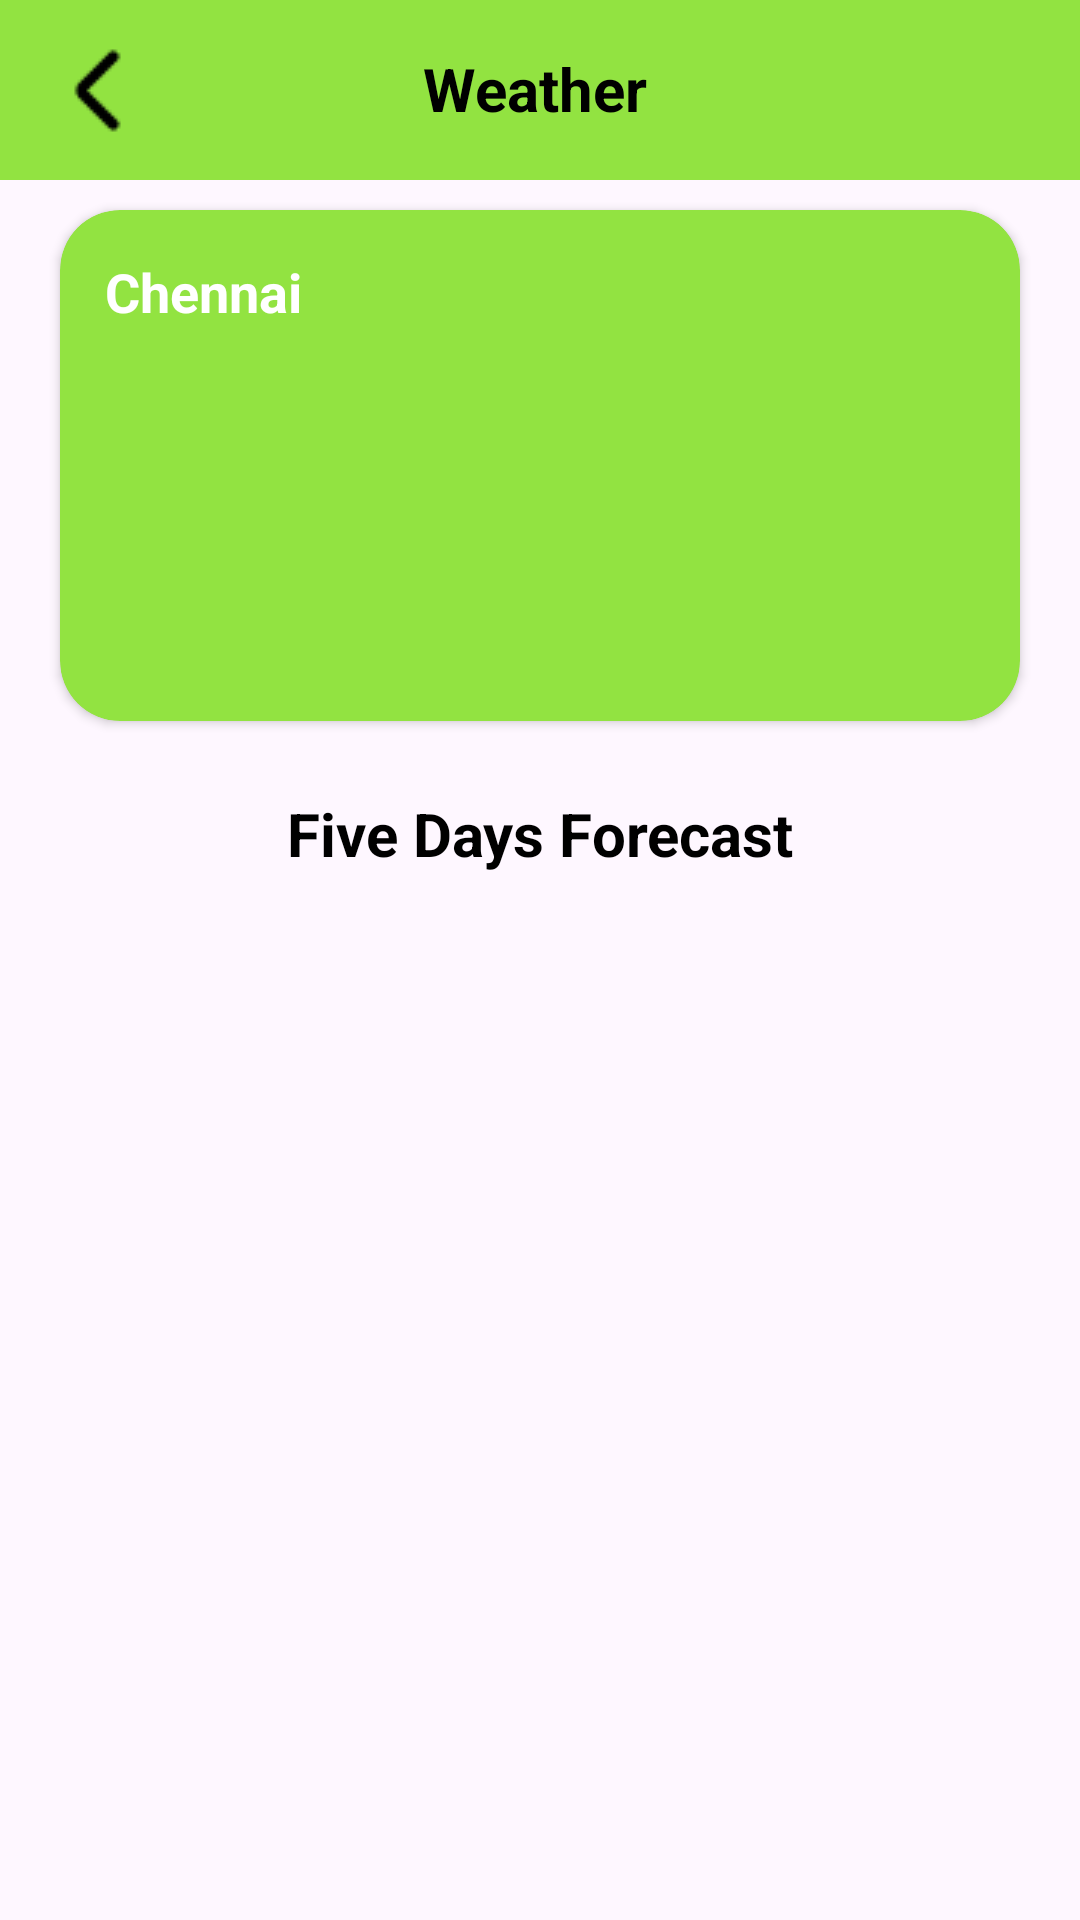

Icons on this 1080w x 1920h Android screen, each with the point to tap as point (x, y):
back arrow: point (97, 90)
